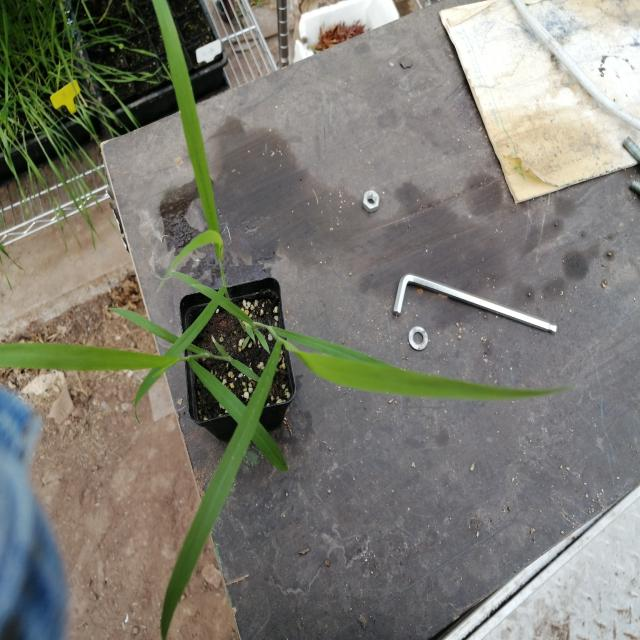crabgrass: (19, 270, 493, 579), (115, 0, 242, 335)
